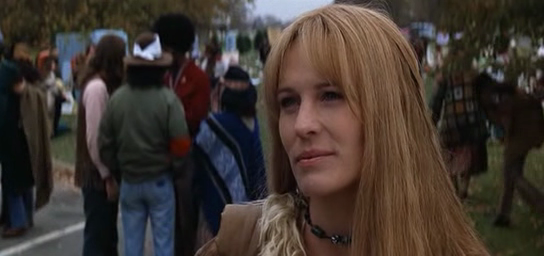cu: (1, 1, 544, 256)
face: (276, 62, 360, 197)
person: (192, 3, 489, 256)
